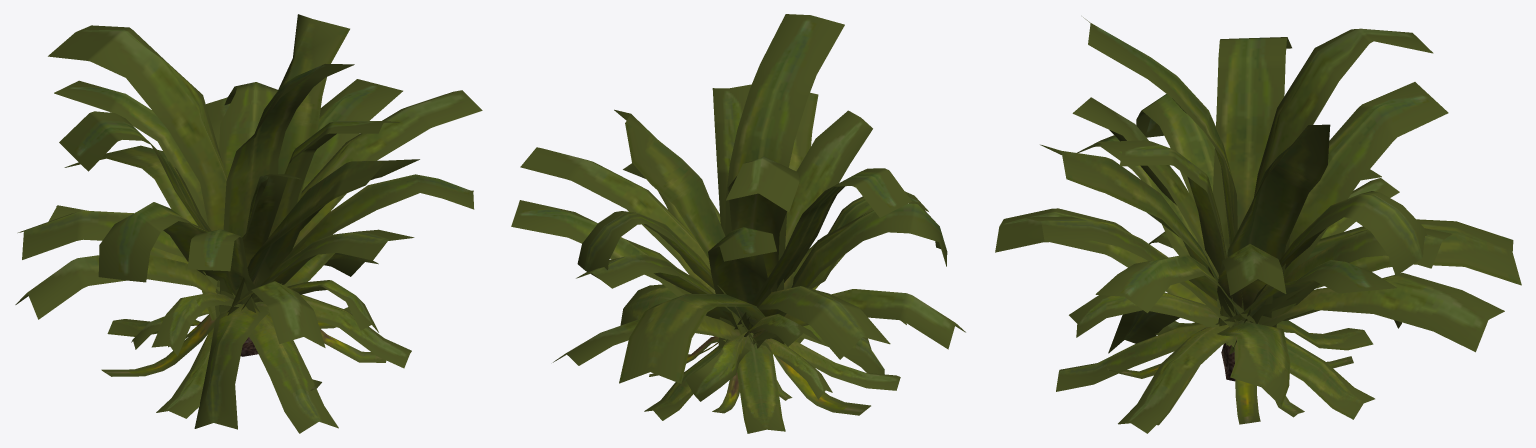
File: sm10_028_tropicalplant03a.fbx
The picture shows the model from 3 angles, left to right: view 1: azimuth 30°, elevation 25°; view 2: azimuth 150°, elevation 25°; view 3: azimuth 270°, elevation 25°; orthographic projection. The views are drawn at different scales.
Visible parts, largest first — view 1: LOD_1_Group_1_Sub_1__sm10_028_TropicalPlant03A_A_Mat__Env_Al; view 2: LOD_1_Group_1_Sub_1__sm10_028_TropicalPlant03A_A_Mat__Env_Al; view 3: LOD_1_Group_1_Sub_1__sm10_028_TropicalPlant03A_A_Mat__Env_Al.
Part boxes in pixels (<box>): LOD_1_Group_1_Sub_1__sm10_028_TropicalPlant03A_A_Mat__Env_Al: <box>15,14,482,433</box>; LOD_1_Group_1_Sub_1__sm10_028_TropicalPlant03A_A_Mat__Env_Al: <box>511,14,965,433</box>; LOD_1_Group_1_Sub_1__sm10_028_TropicalPlant03A_A_Mat__Env_Al: <box>995,17,1521,433</box>.
Bounding box in the file's own units: 2.25 × 1.7 × 2.15.
